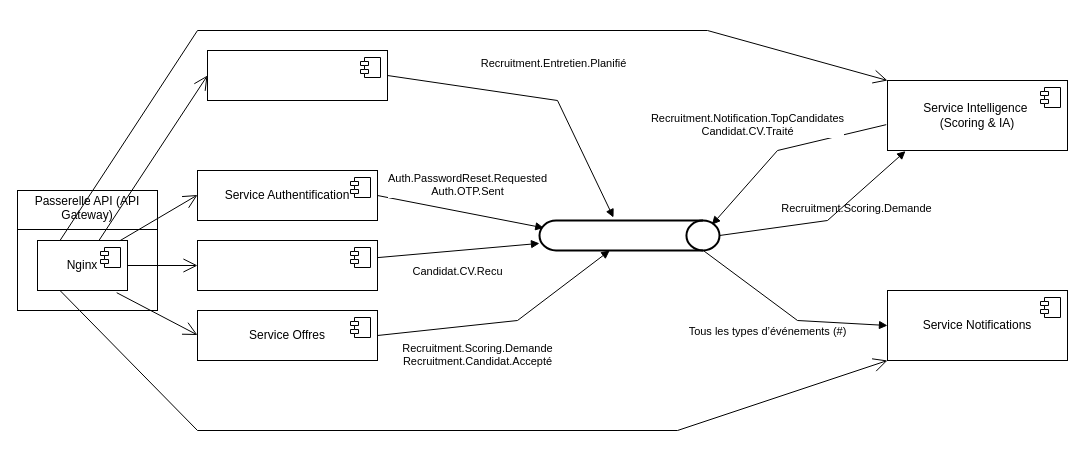
Some shapes in this 1085 by 462 pixel diagram are drawn without their labels. The centre of each missing label's shape, as x and y in pixels:
RabbitMQ : recrusmart.events): [629,235]
Service Candidats: [287,265]
Service Entretiens: [297,75]
